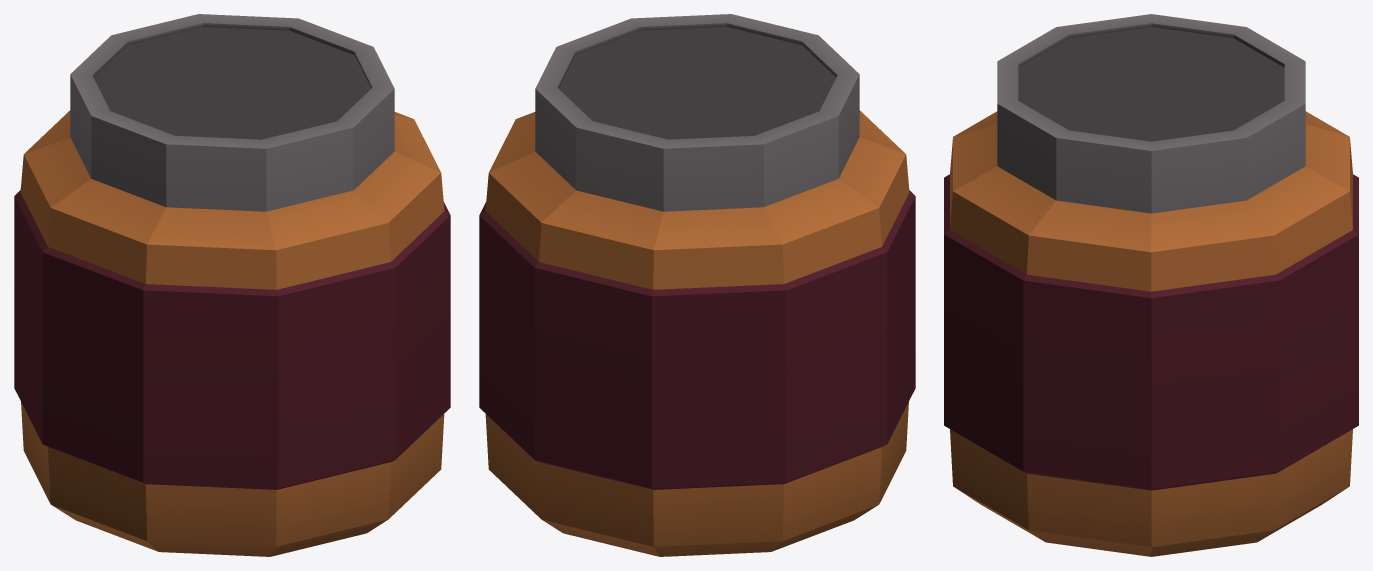
File: pq_jarre.glb
The picture shows the model from 3 angles, left to right: view 1: azimuth 30°, elevation 25°; view 2: azimuth 150°, elevation 25°; view 3: azimuth 270°, elevation 25°; orthographic projection.
Visible parts, largest first — view 1: Jar_Large; view 2: Jar_Large; view 3: Jar_Large.
Part boxes in pixels (<box>): Jar_Large: <box>14,14,450,556</box>; Jar_Large: <box>479,14,915,556</box>; Jar_Large: <box>944,14,1358,556</box>.
Bounding box in the file's own units: 0.2976 × 0.3001 × 0.2831.
